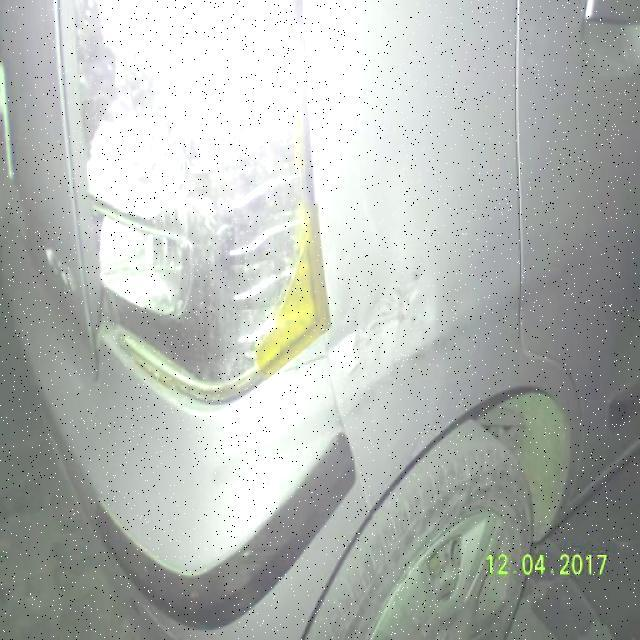car damage: (72, 3, 330, 406), (282, 269, 489, 427)
